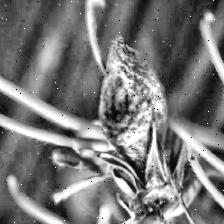Gray Mold: (76, 35, 186, 224)
